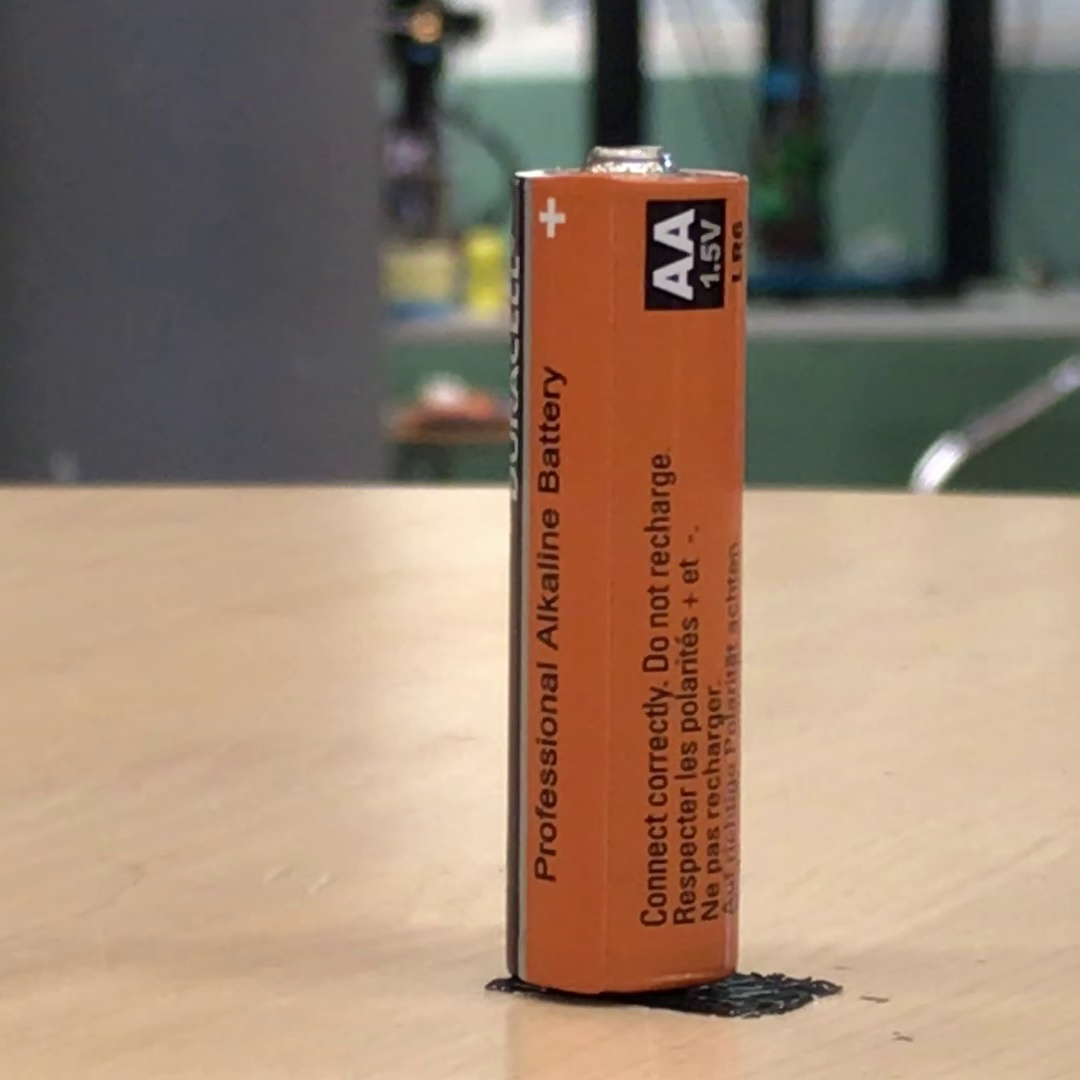keyword: (526, 593, 569, 661)
